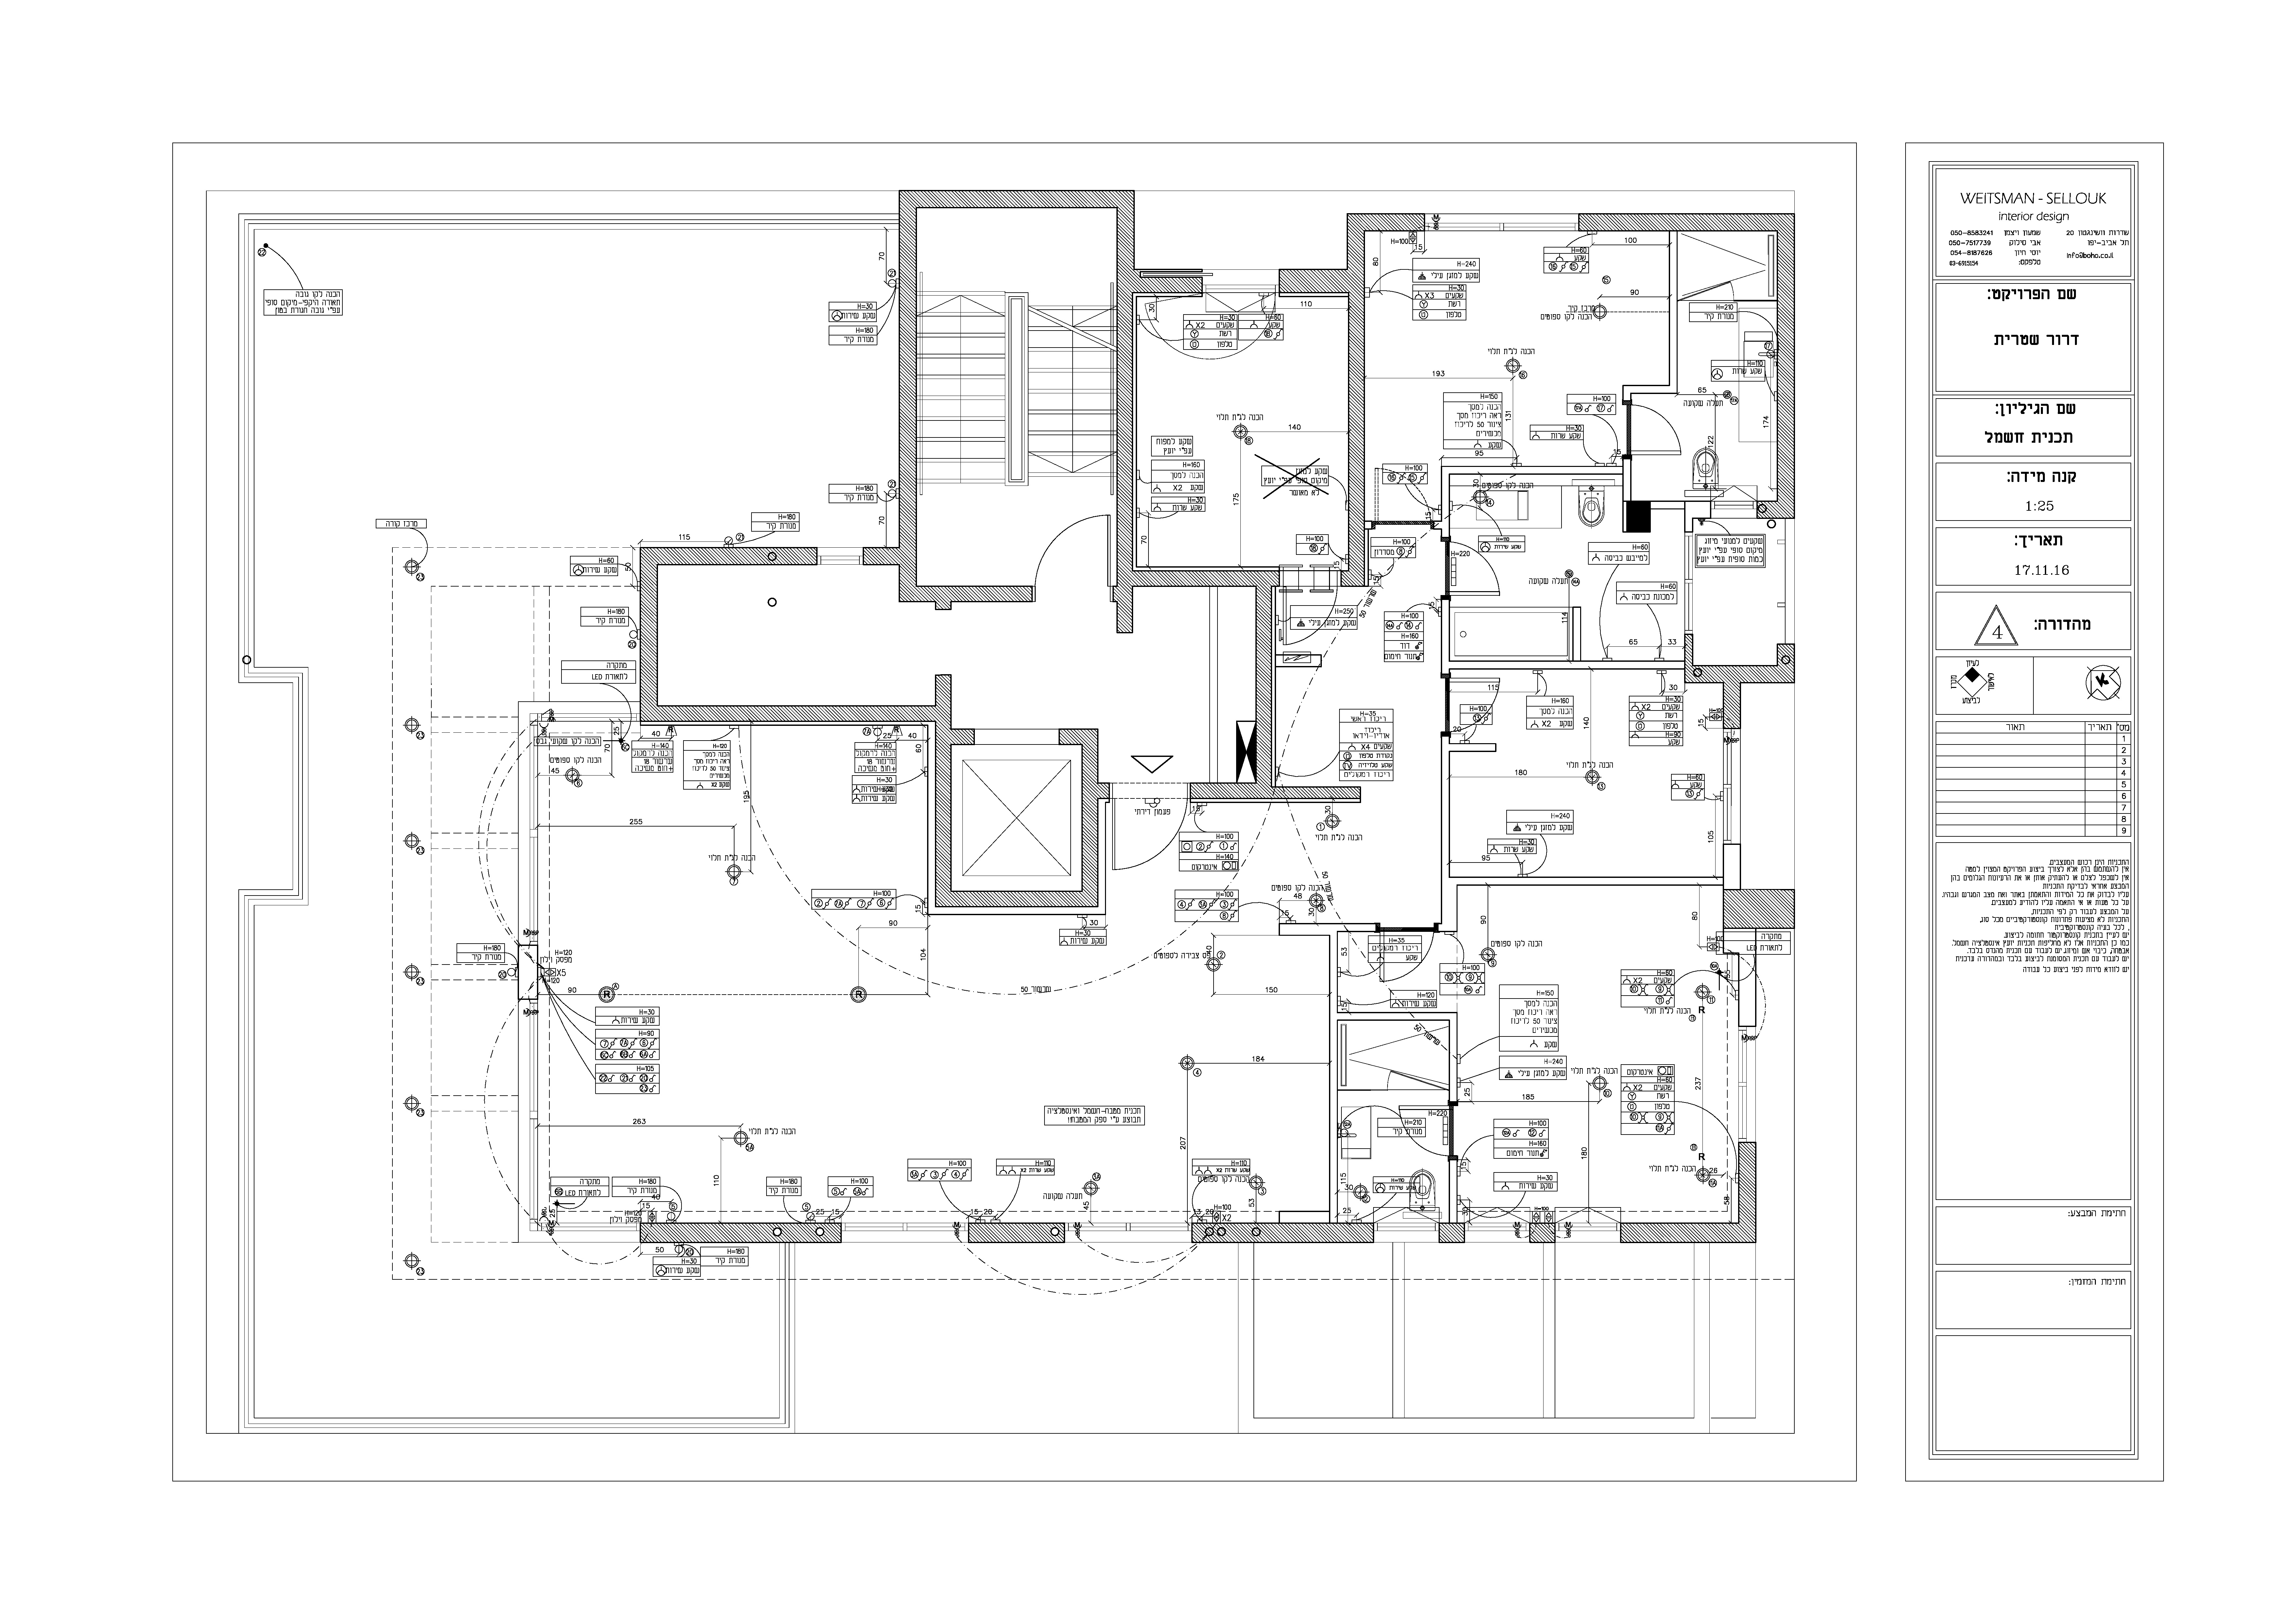door: (1027, 511, 1116, 582), (1280, 589, 1341, 647), (1452, 675, 1514, 733), (1456, 541, 1517, 598), (1633, 402, 1695, 459)
wall: (898, 190, 918, 603), (1116, 209, 1132, 633), (1348, 213, 1366, 589), (640, 705, 951, 722), (1777, 213, 1793, 518), (918, 192, 1134, 207), (1255, 584, 1271, 798), (935, 724, 951, 909), (640, 547, 658, 707), (658, 547, 816, 564), (1081, 729, 1097, 891), (953, 891, 1099, 907), (1134, 573, 1280, 584)
window: (1424, 213, 1579, 232), (840, 1223, 969, 1243), (1723, 728, 1742, 845), (1064, 1223, 1192, 1241), (1737, 1026, 1756, 1142), (1202, 271, 1280, 297), (1373, 1223, 1440, 1243), (1554, 1223, 1621, 1243), (1464, 1223, 1529, 1243), (816, 547, 863, 568)
